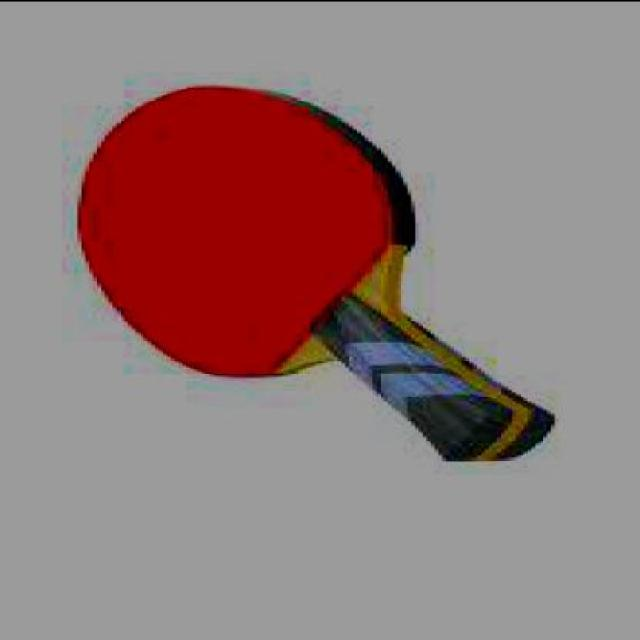table_tennis_racket: (72, 77, 422, 381)
